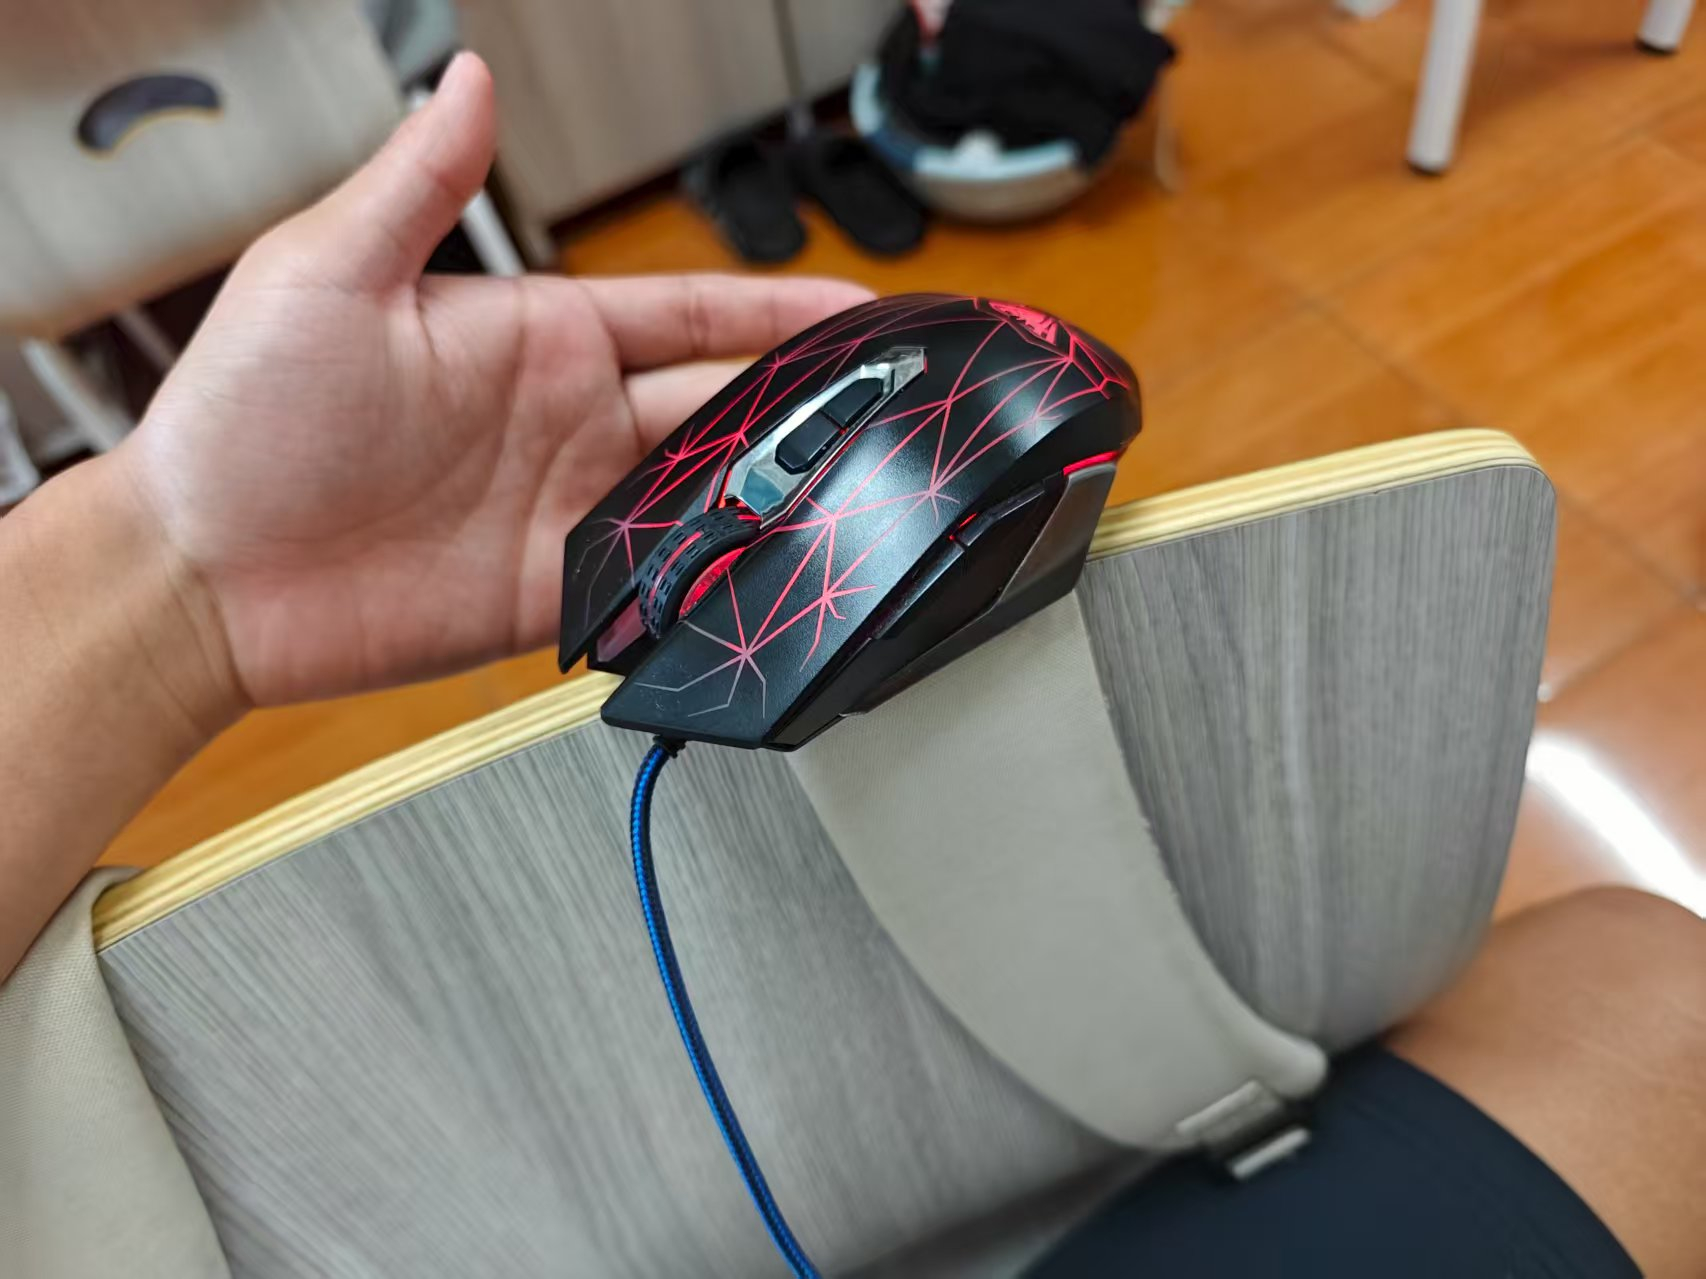mouse: (541, 270, 1182, 783)
